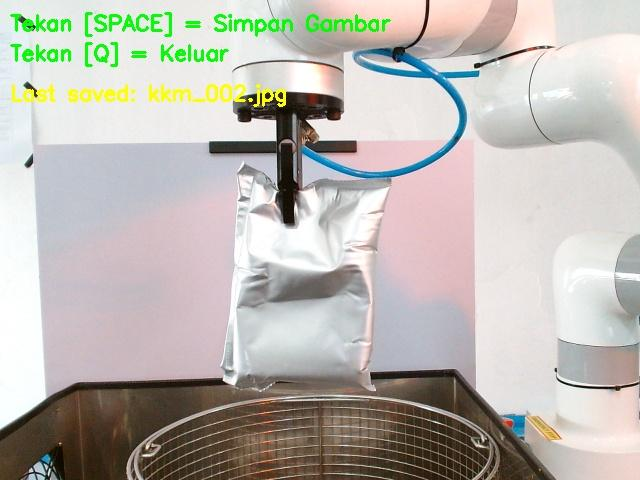retort-pouch: (219, 160, 390, 394)
